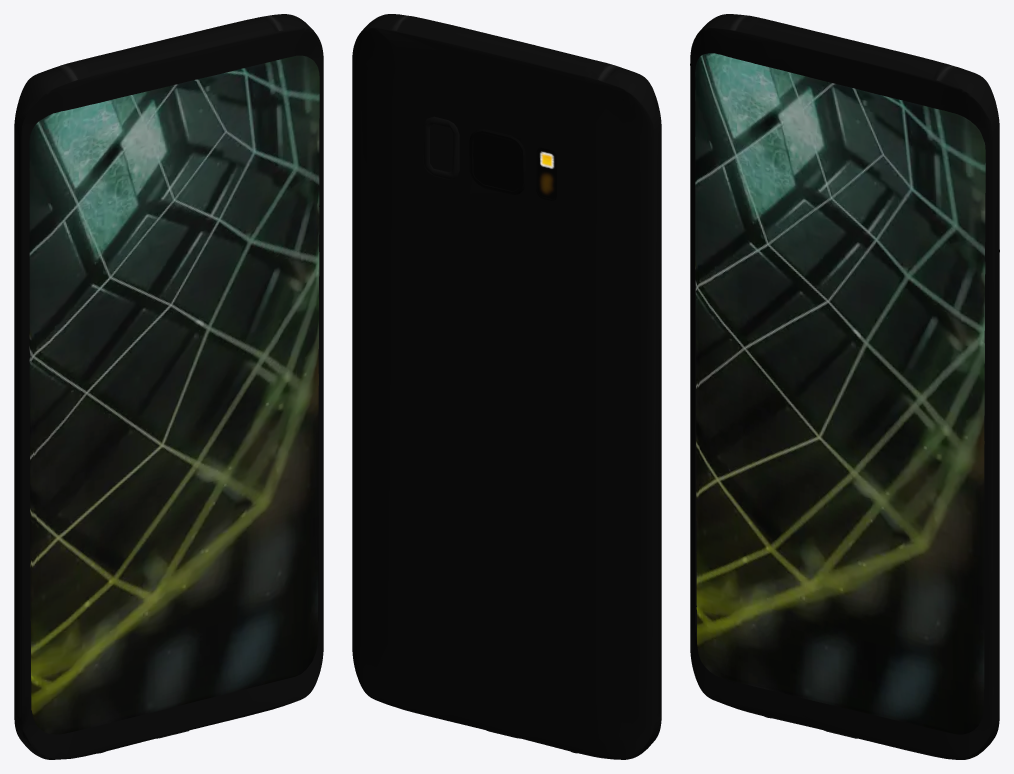
File: phone.glb
3 renders of one model, left to right at view 1: azimuth 30°, elevation 25°; view 2: azimuth 150°, elevation 25°; view 3: azimuth 330°, elevation 25°, orthographic.
Visible parts, largest first — view 1: phone; view 2: phone; view 3: phone.
Part boxes in pixels (x1,y1,x2,y2): phone: [14, 14, 323, 759]; phone: [352, 14, 661, 759]; phone: [690, 14, 999, 759].
Size of the model in its own units: 0.0688 by 0.15 by 0.00795.
9 materials, 4 textured.
